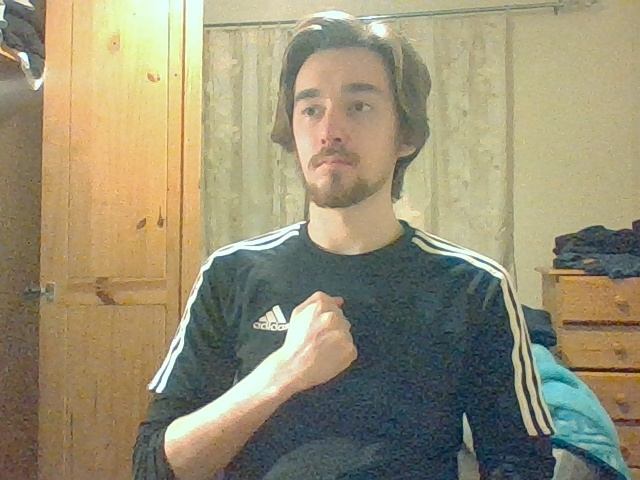my: (286, 291, 357, 386)
